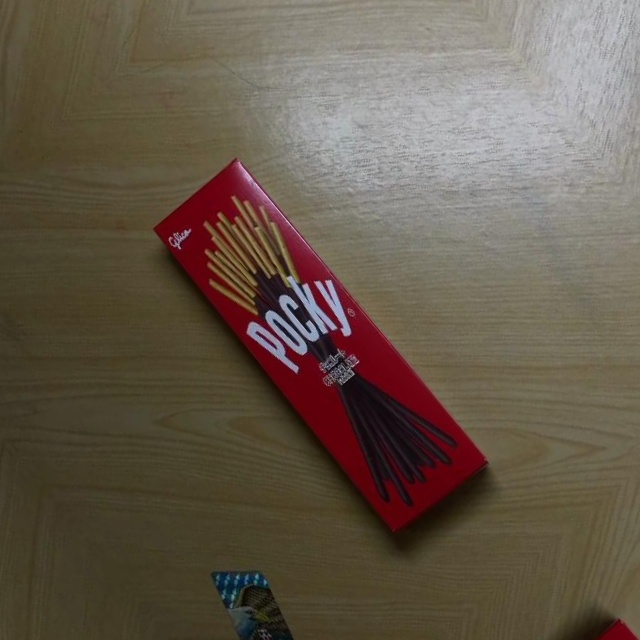Pocky: (141, 156, 495, 544)
